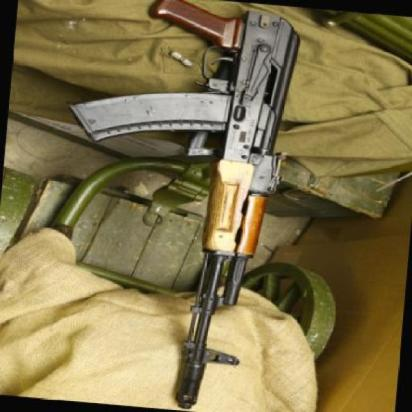Gun: (60, 0, 320, 411)
